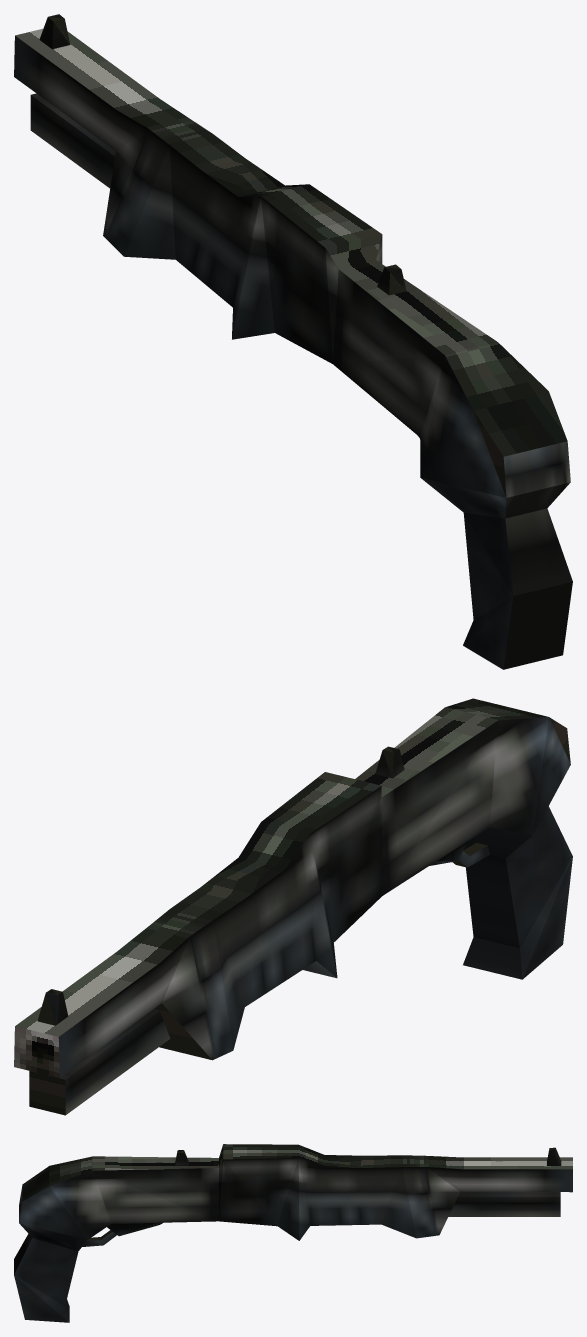
The model's file is shotgun-pickup-lod0.glb.
The picture shows the model from 3 angles, top to bottom: view 1: azimuth 30°, elevation 25°; view 2: azimuth 150°, elevation 25°; view 3: azimuth 270°, elevation 25°; orthographic projection. The views are drawn at different scales.
Visible parts, largest first — view 1: wrld_shotgun; view 2: wrld_shotgun; view 3: wrld_shotgun.
Part boxes in pixels (x1,y1,x2,y2): wrld_shotgun: (14,14,572,669); wrld_shotgun: (14,698,572,1115); wrld_shotgun: (14,1144,572,1322).
Bounding box in the file's own units: 0.2863 × 0.73 × 2.23.
Materials: 4 (4 with a texture image).
